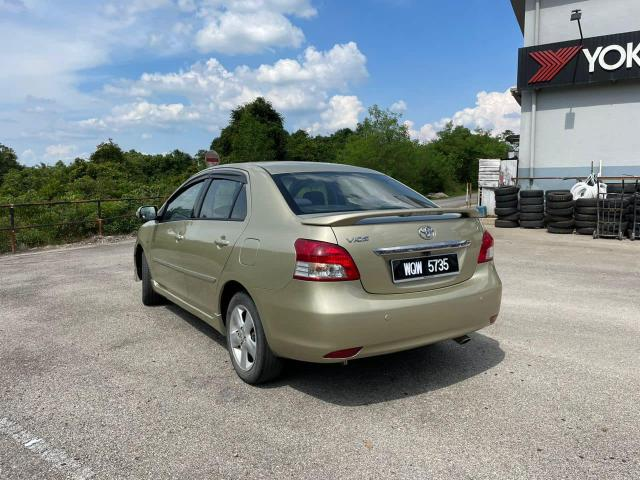License_Plate: (397, 254, 462, 284)
car: (122, 153, 509, 391)
